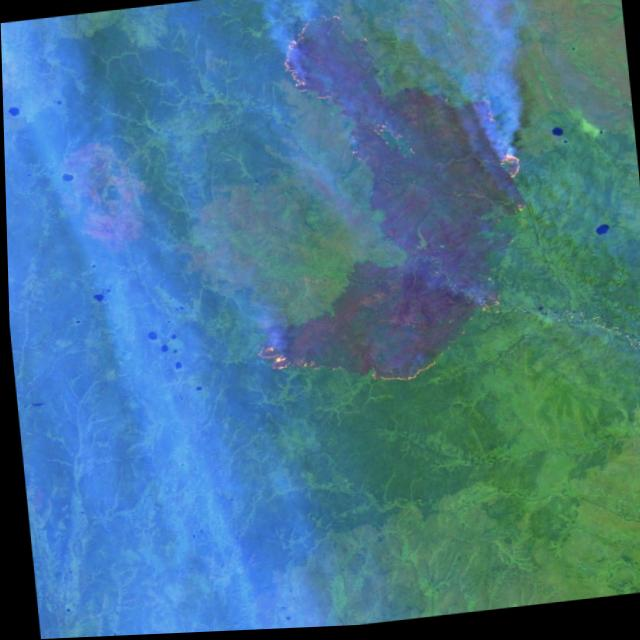fire: (244, 297, 520, 403), (269, 9, 355, 111), (471, 90, 528, 197)
